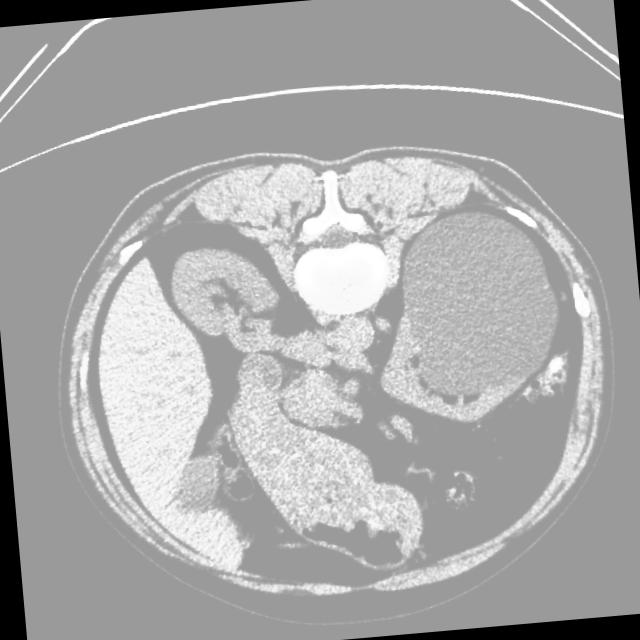cysts: (47, 128, 624, 623)
